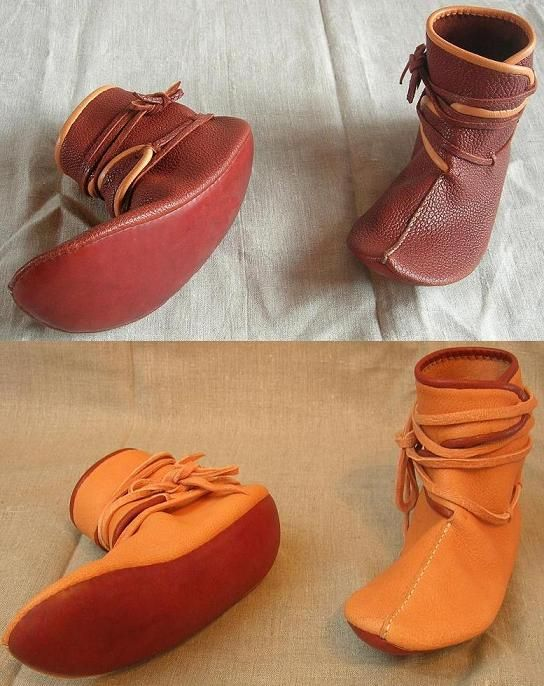cuero: (10, 8, 533, 680)
